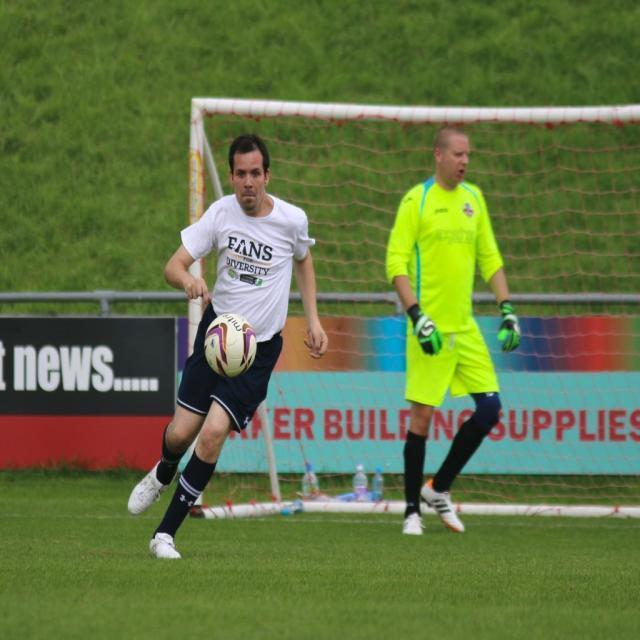football: (181, 307, 272, 382)
